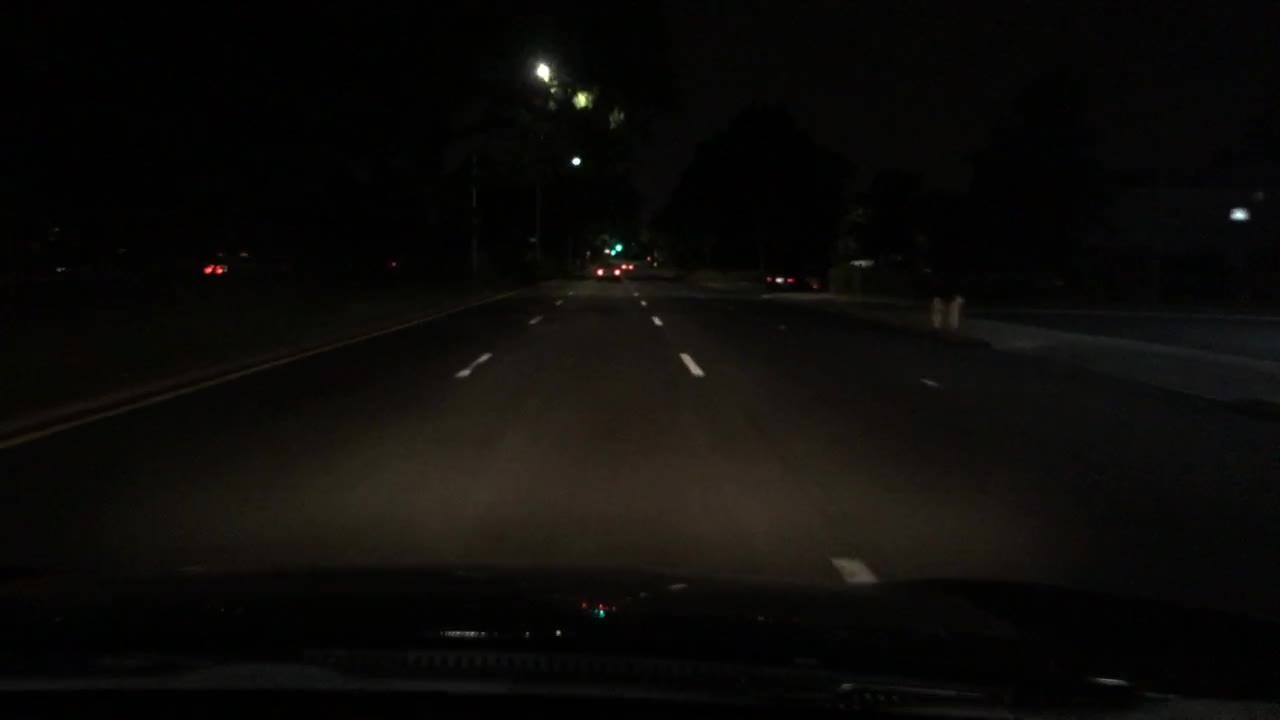car: (759, 266, 820, 295), (201, 248, 251, 280), (592, 261, 622, 280), (617, 260, 633, 273)
traffic light: (612, 238, 622, 253)
